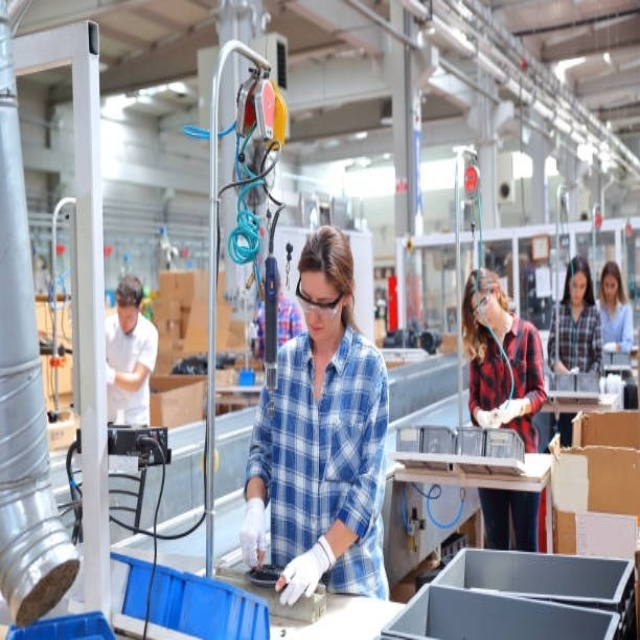Gafas: (295, 276, 346, 318), (472, 290, 493, 314)
Guantes: (273, 530, 338, 609), (239, 493, 273, 568), (473, 397, 527, 435)
Sin_mascara: (305, 318, 325, 342)
